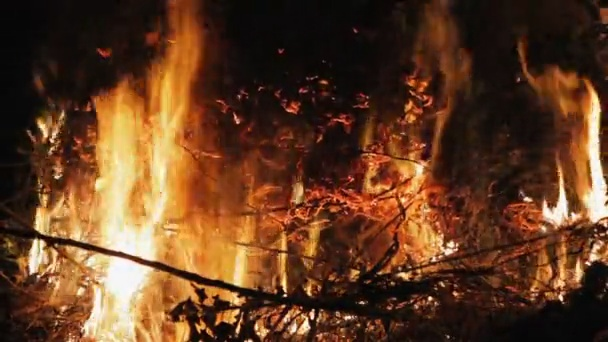fire: (30, 1, 249, 342), (528, 71, 608, 296), (437, 238, 459, 255), (413, 161, 425, 177)
